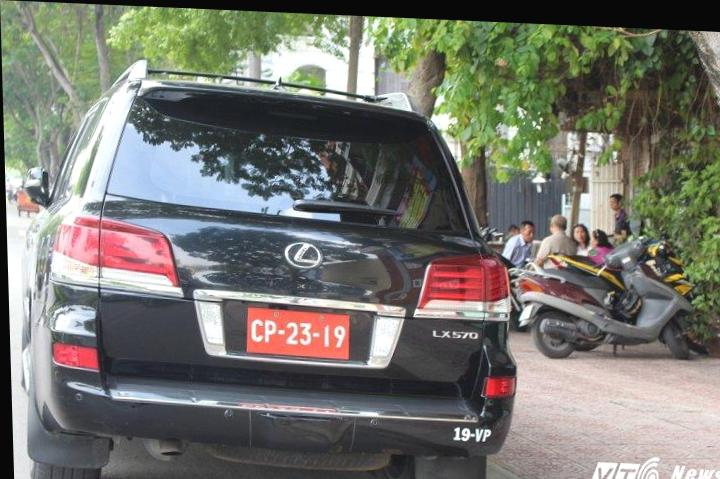License_Plate: (242, 301, 351, 364)
